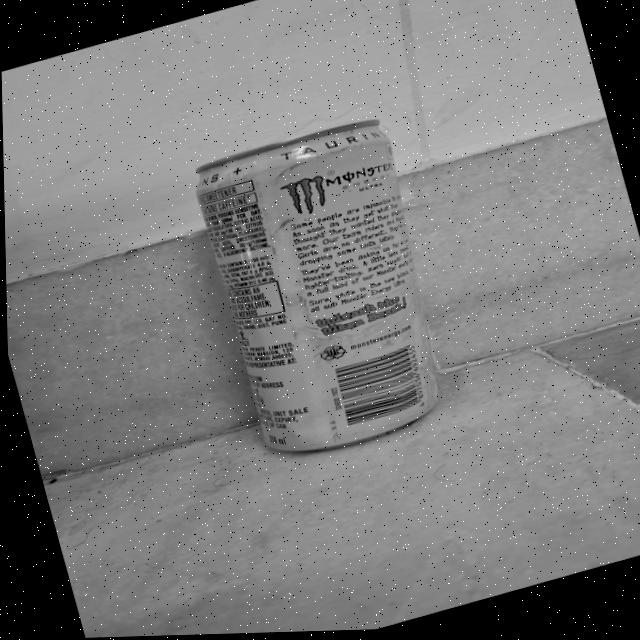White Monster: (155, 95, 485, 490)
